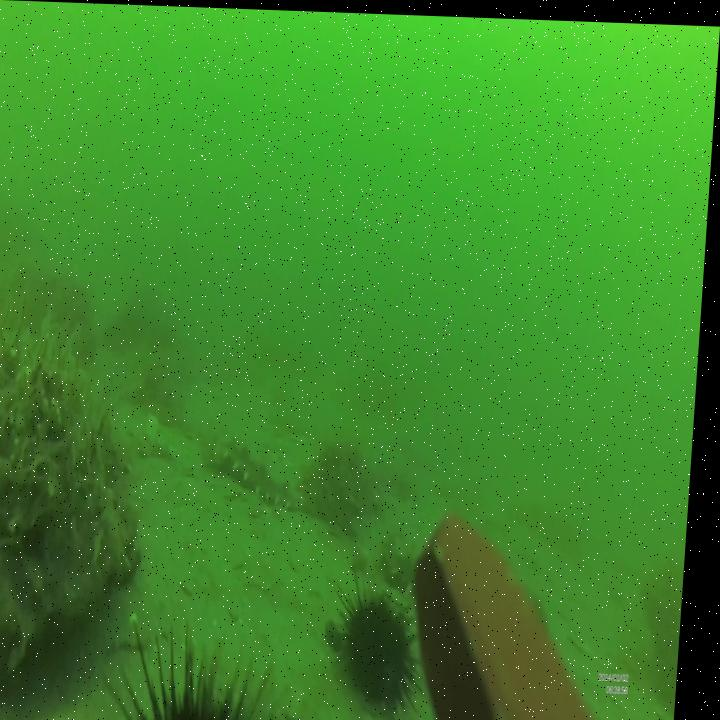echinus: (109, 628, 285, 720), (336, 565, 440, 716)
holothurian: (213, 432, 314, 517)
